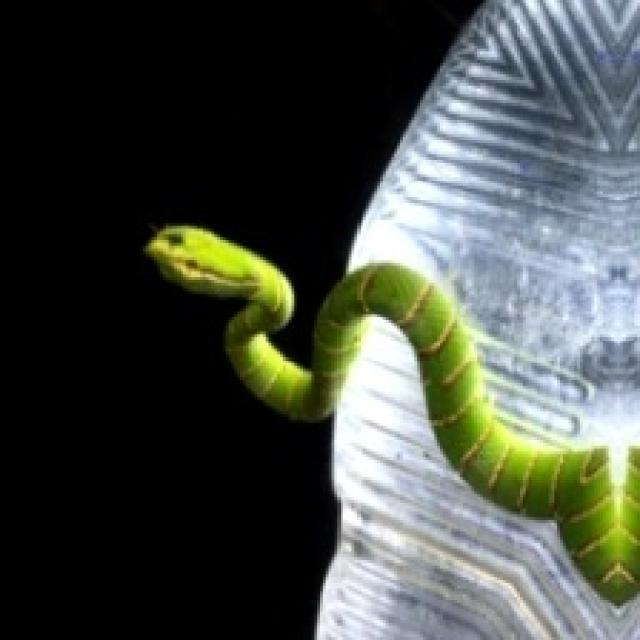north ph temple pitviper: (146, 226, 637, 603)
